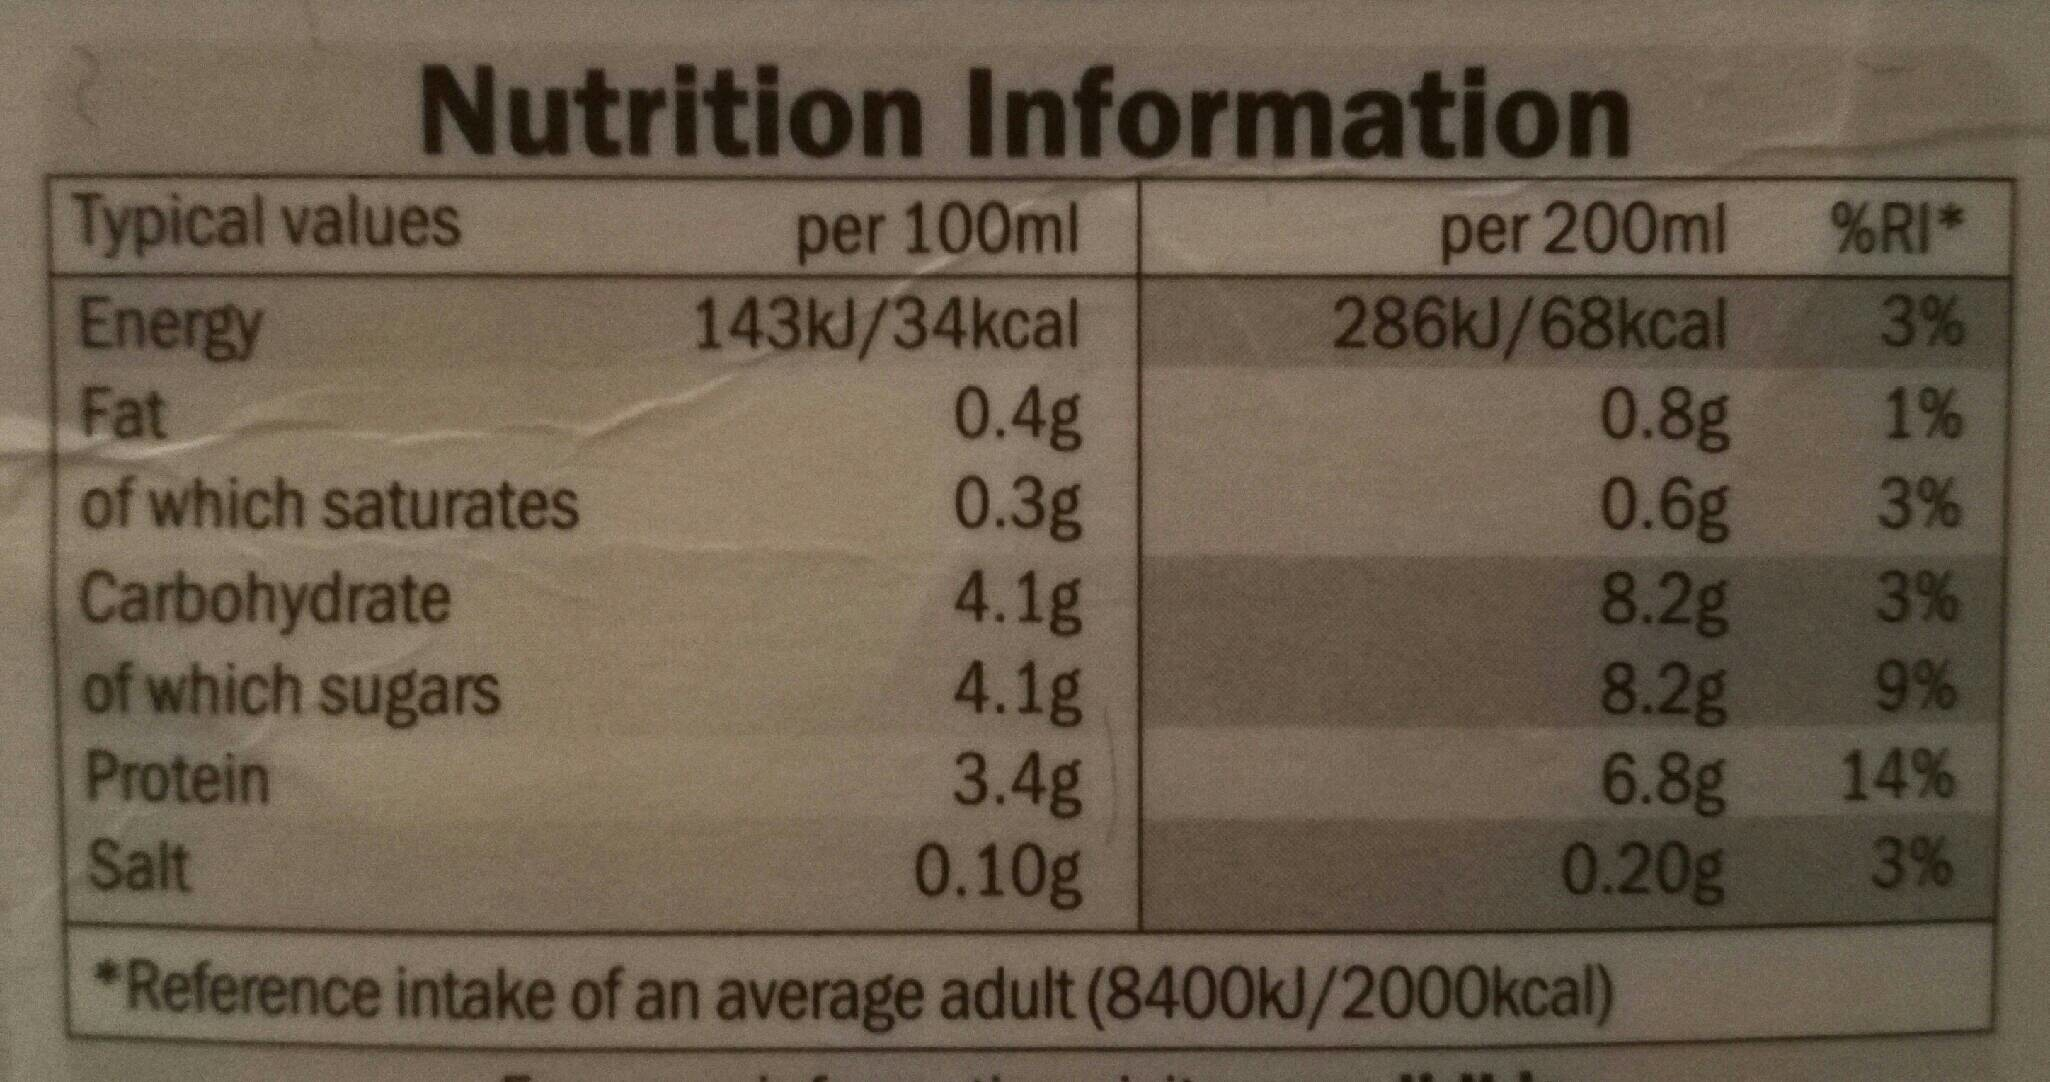column: (61, 193, 582, 921), (1317, 188, 1735, 922), (700, 197, 1087, 911), (1805, 191, 1967, 907)
table: (47, 161, 2009, 940)
